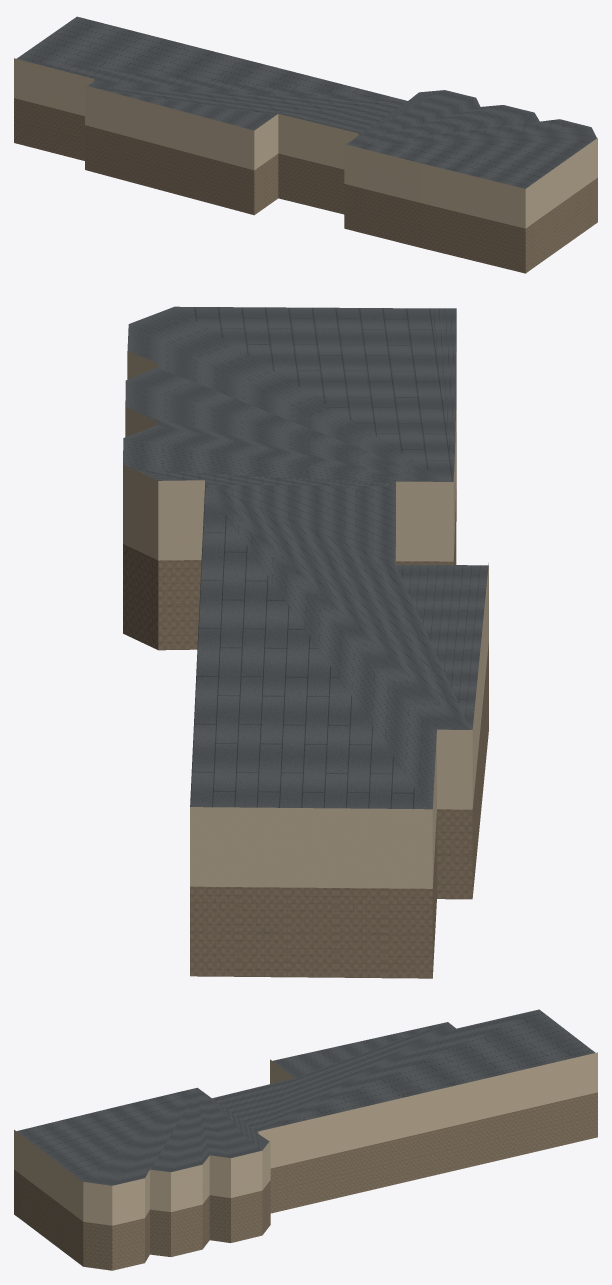
Rendered from core_0041.gltf.
3 renders of one model, top to bottom at view 1: azimuth 30°, elevation 25°; view 2: azimuth 150°, elevation 25°; view 3: azimuth 270°, elevation 25°, orthographic. The views are drawn at different scales.
Parts seen in each view (by area): view 1: core_0041; view 2: core_0041; view 3: core_0041.
Part boxes in pixels (box(x1,y1,x2,y2)): core_0041: box(14, 16, 597, 273); core_0041: box(123, 306, 488, 978); core_0041: box(14, 1009, 597, 1270).
Size of the model in its own units: 41.38 by 9.18 by 57.19.
3 materials, 3 textured.
